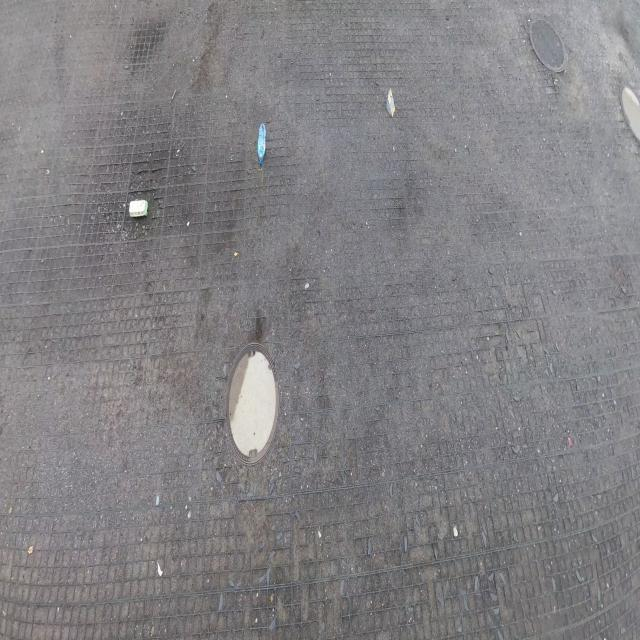rubbish: (256, 123, 266, 165), (128, 200, 148, 218), (386, 88, 396, 118)
